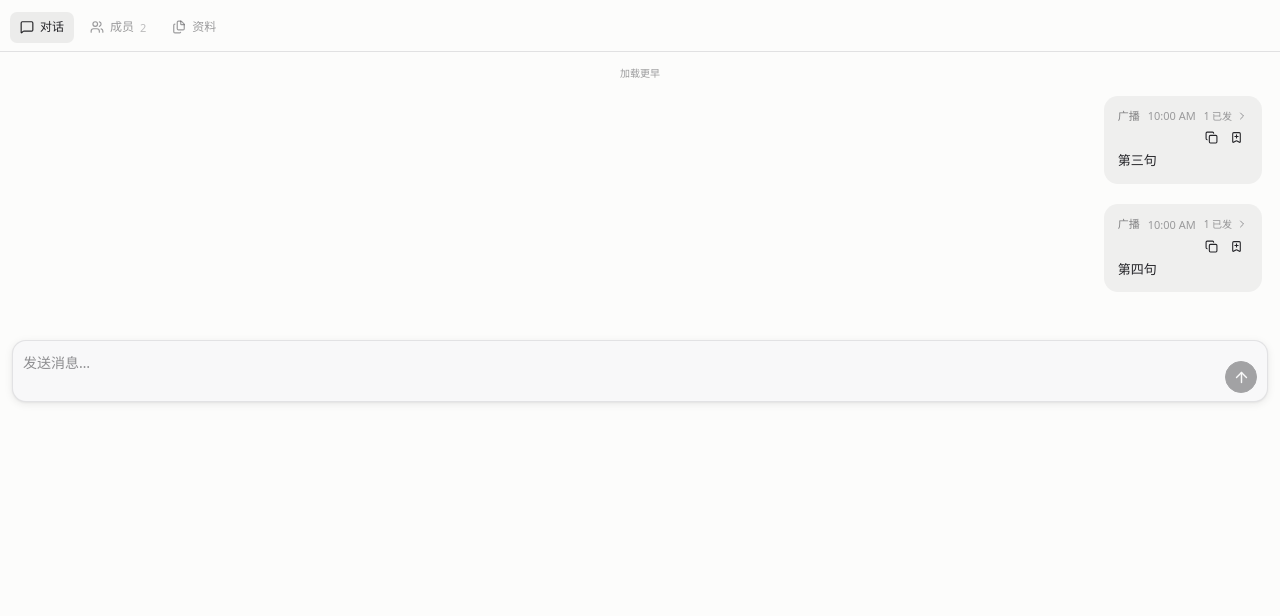
Test: 「加载更早」 › 点了把更早的一页前插，顺序仍旧是正的；翻到头按钮自己消失
The width and height of the screenshot is (1280, 616).
Expected: the element with test id "group-message-groupmsg:3" is shown, [1104,96,1262,184]
Click the button with test id "group-load-earlier" at (640, 73), box [620,66,660,80]
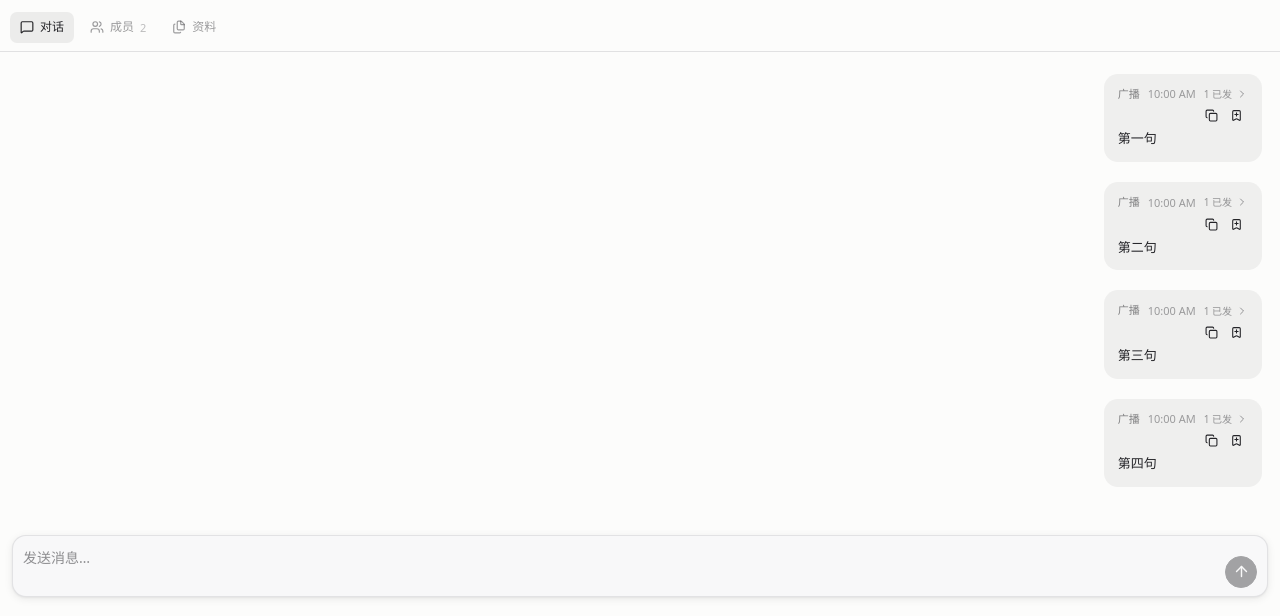
Now the button with test id "group-load-earlier" is gone
